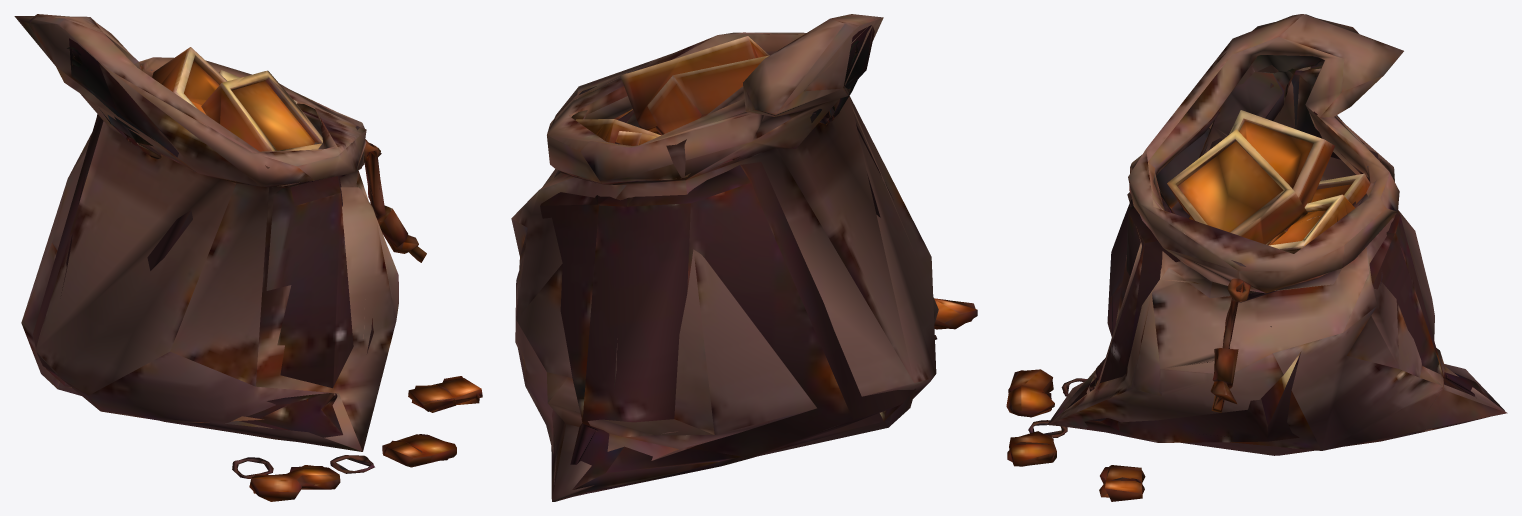
Rendered from loot.glb.
The picture shows the model from 3 angles, left to right: view 1: azimuth 30°, elevation 25°; view 2: azimuth 150°, elevation 25°; view 3: azimuth 270°, elevation 25°; orthographic projection. The views are drawn at different scales.
Visible parts, largest first — view 1: geometry_0; view 2: geometry_0; view 3: geometry_0.
Boxes of the visible parts, box(x1,y1,x2,y2) form: geometry_0: box(14, 14, 482, 501); geometry_0: box(511, 14, 977, 501); geometry_0: box(1006, 14, 1507, 501).
Bounding box in the file's own units: 0.7584 × 0.7736 × 0.9992.
Materials: 1 (1 with a texture image).
